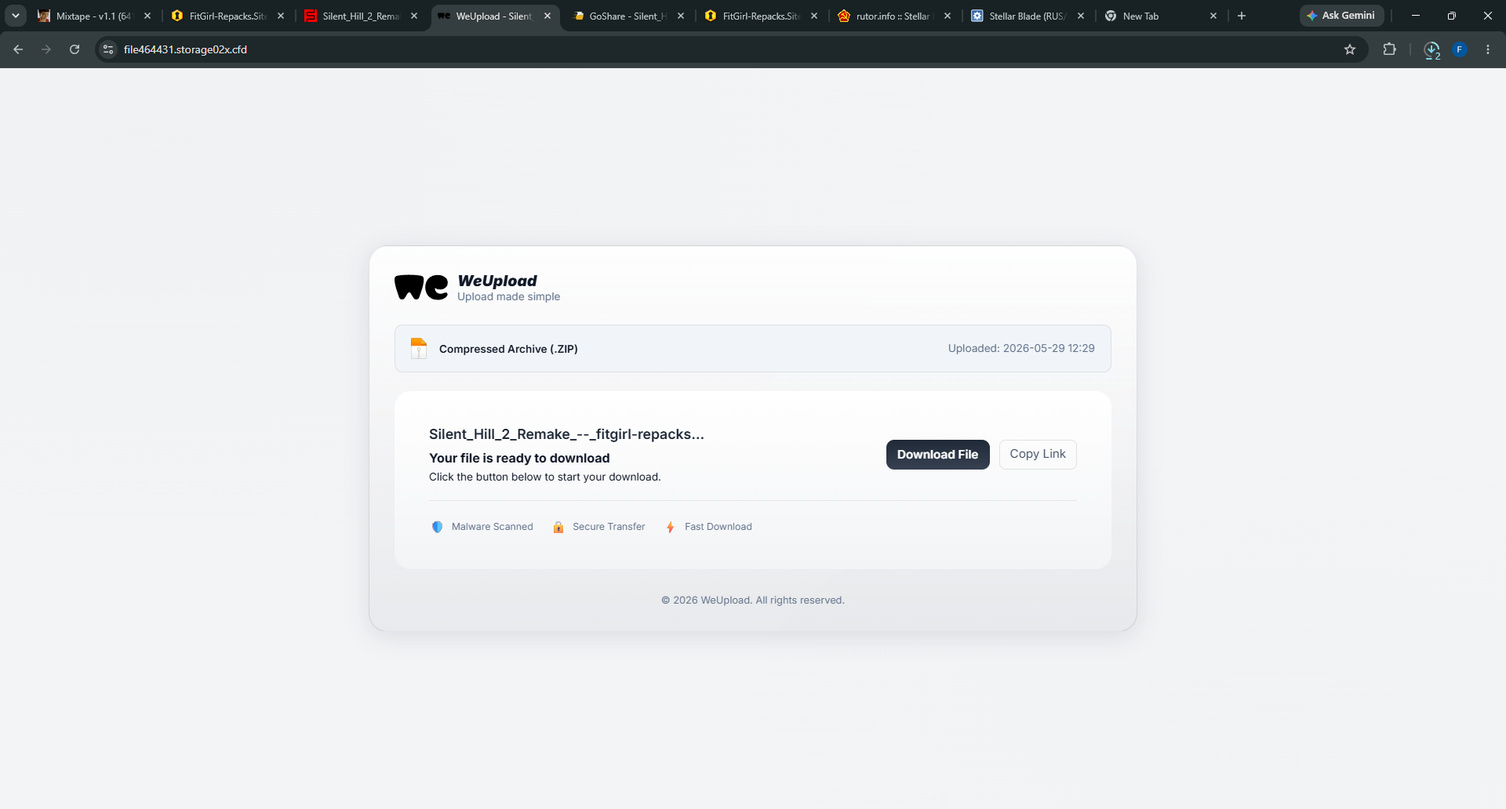fake_button: (881, 432, 1000, 480)
